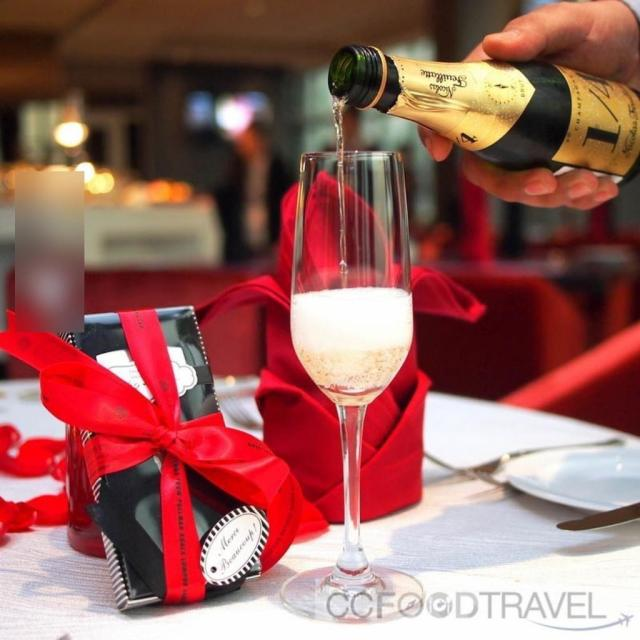bottle-glass: (326, 43, 640, 181)
glass-wine: (282, 148, 424, 621)
